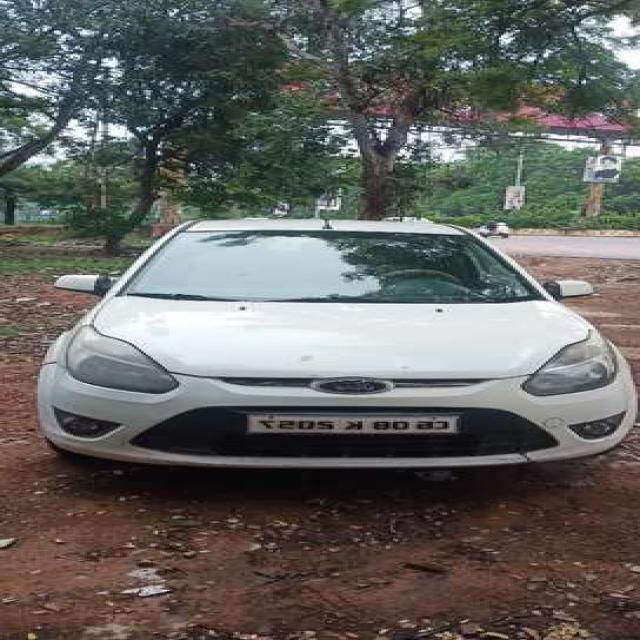license_plate: (233, 406, 472, 445)
